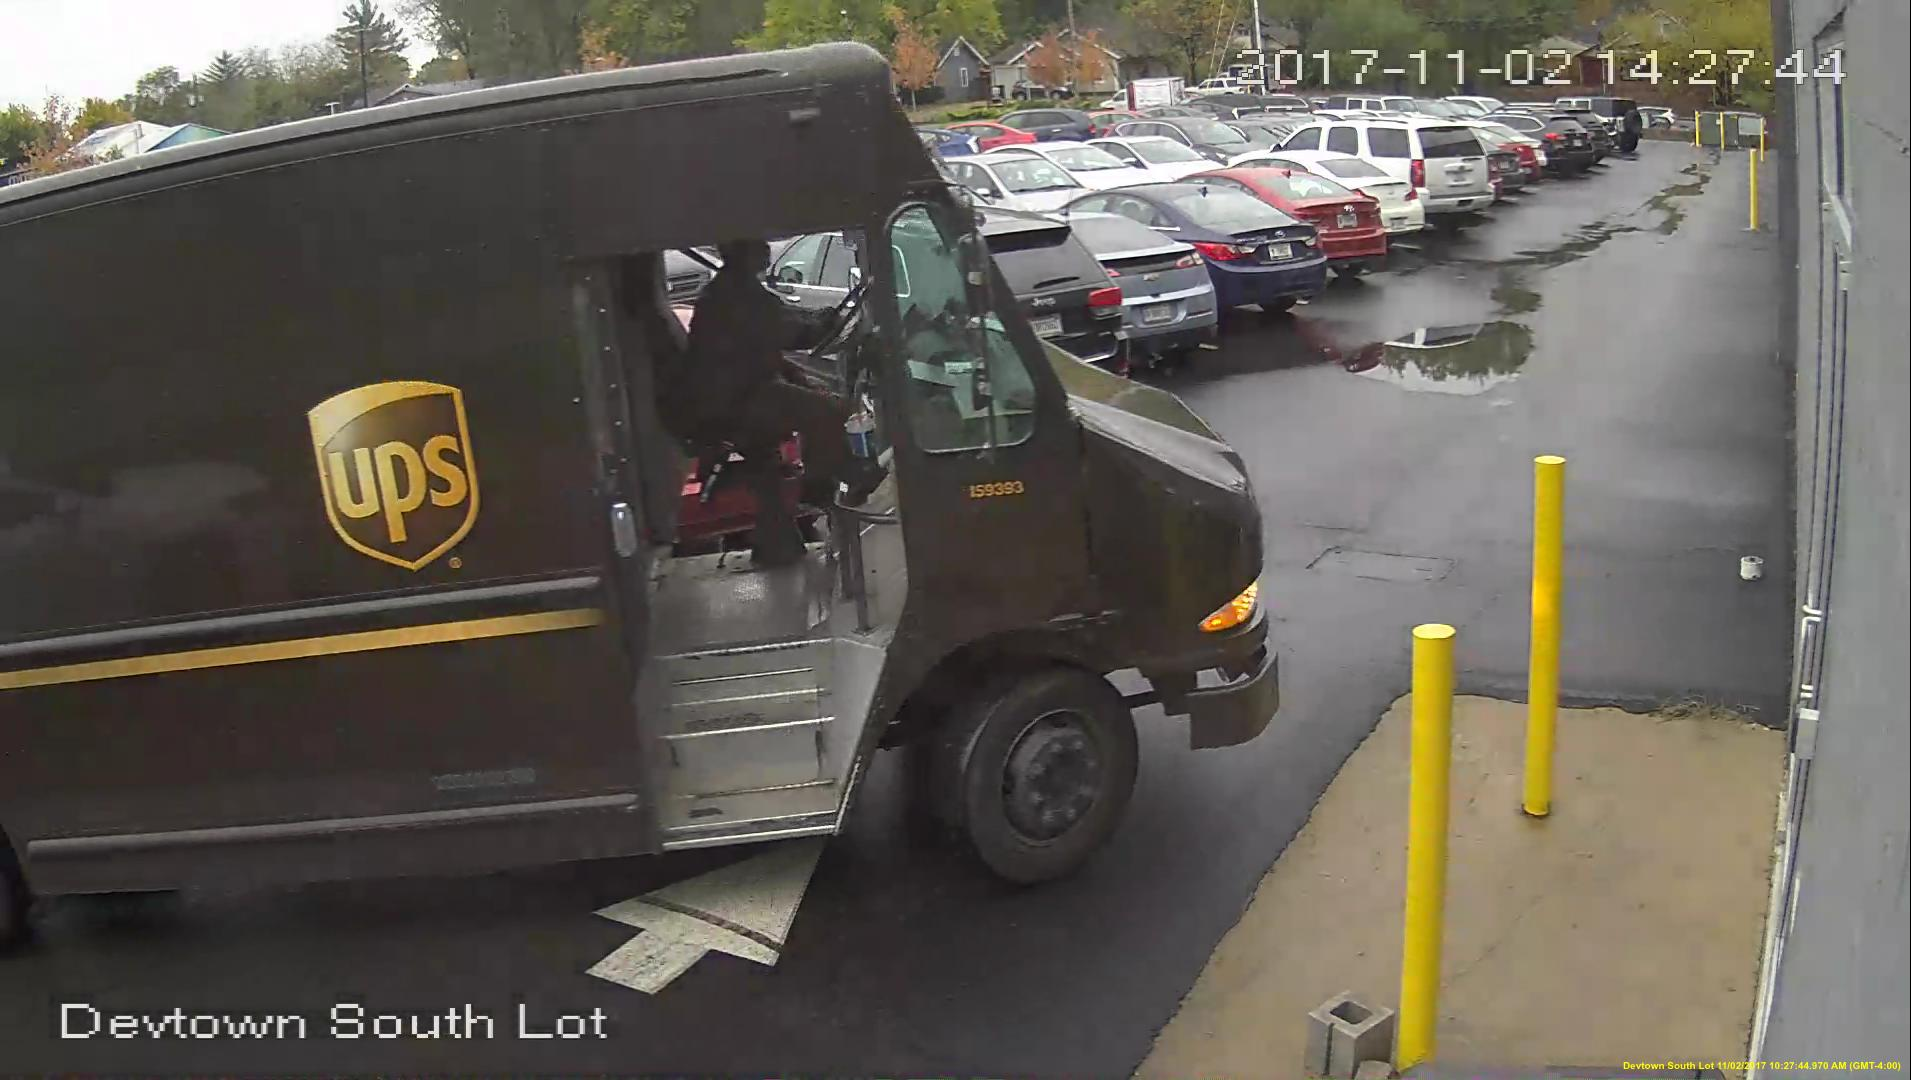ups_truck: (3, 45, 1257, 947)
